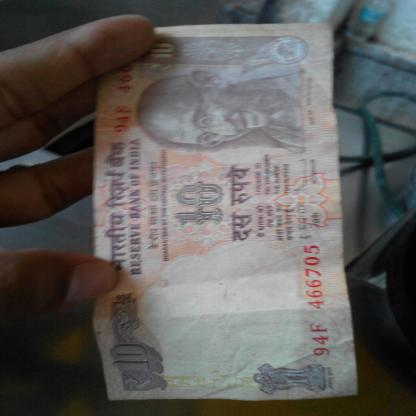Old10Front: (92, 21, 362, 400)
